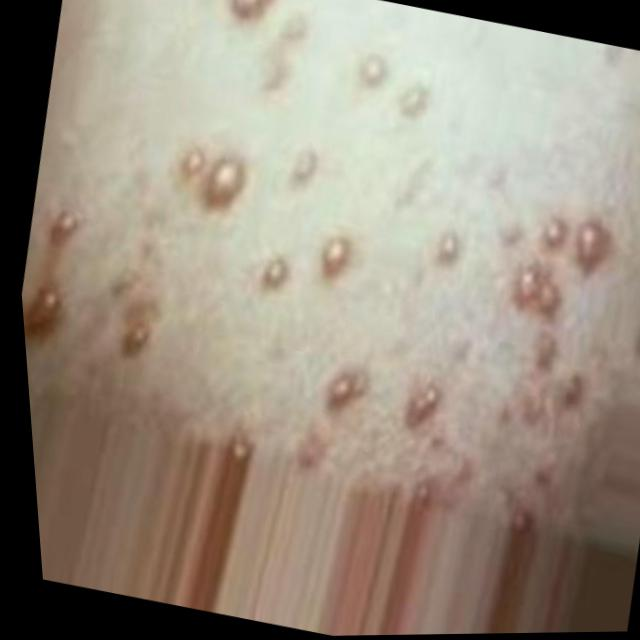Shingles: (193, 149, 253, 214), (568, 216, 620, 278), (319, 361, 372, 415), (399, 379, 445, 433), (314, 232, 358, 284), (508, 262, 549, 308), (394, 79, 435, 123), (115, 315, 155, 360), (284, 143, 323, 189), (255, 250, 294, 294), (353, 50, 393, 92), (225, 0, 281, 28), (429, 227, 465, 269), (537, 212, 573, 252), (174, 145, 210, 184), (556, 370, 589, 412)
